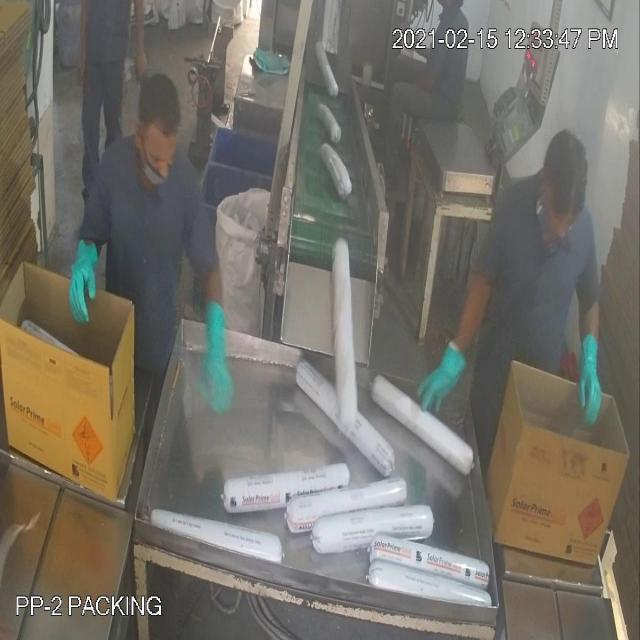No_Gloves: (19, 43, 591, 378)
